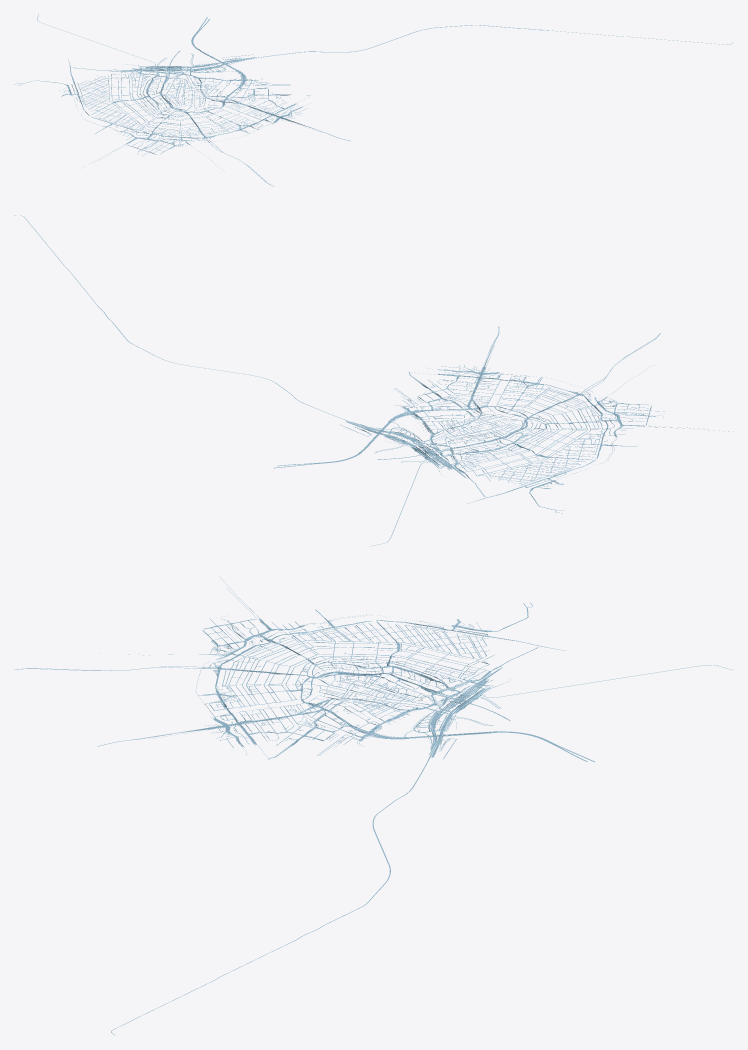
Rendered from roads.glb.
The picture shows the model from 3 angles, top to bottom: view 1: azimuth 30°, elevation 25°; view 2: azimuth 150°, elevation 25°; view 3: azimuth 270°, elevation 25°; orthographic projection. The views are drawn at different scales.
Parts seen in each view (by area): view 1: roads; view 2: roads; view 3: roads.
Part boxes in pixels (x1,y1,x2,y2): roads: [14, 14, 733, 186]; roads: [14, 215, 733, 546]; roads: [14, 576, 733, 1035].
Bounding box in the file's own units: 9759 × 41.7 × 6450.
